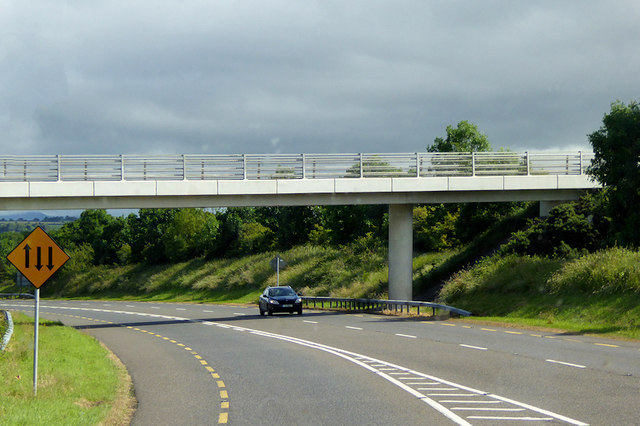bridge: (1, 150, 612, 211)
